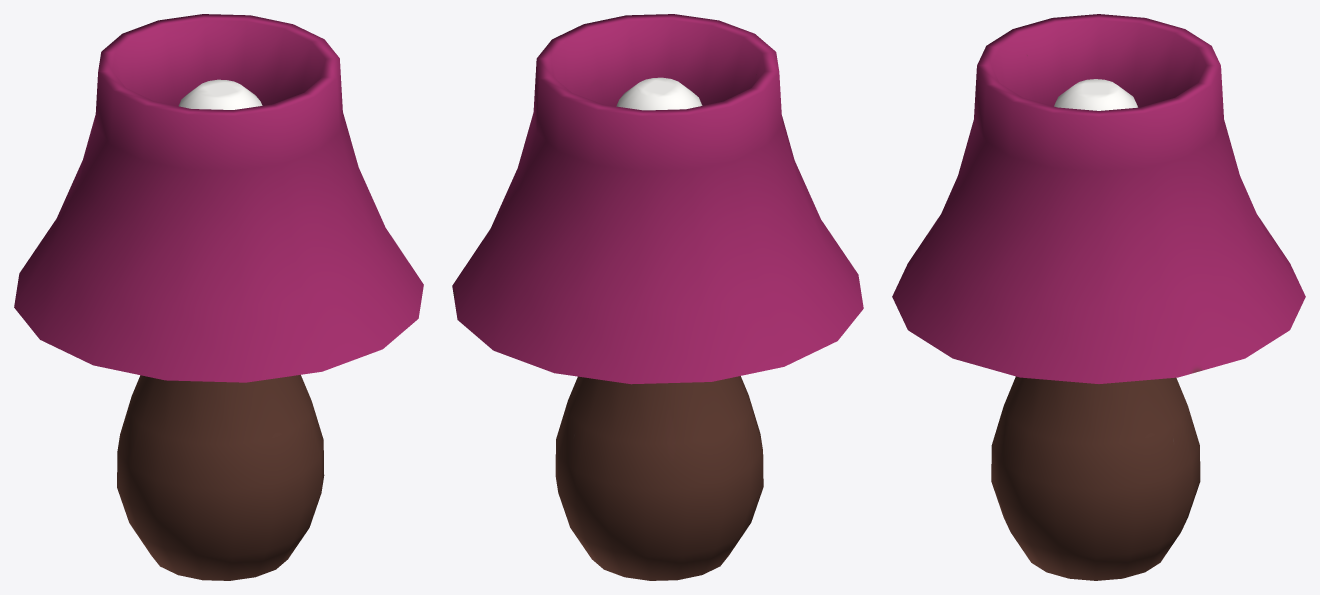
The model's file is lamp.fbx.
3 views of the same model, side by side, from view 1: azimuth 30°, elevation 25°; view 2: azimuth 150°, elevation 25°; view 3: azimuth 270°, elevation 25° (orthographic).
Visible parts, largest first — view 1: Cylinder.002; view 2: Cylinder.002; view 3: Cylinder.002.
Boxes of the visible parts, x1,y1,x2,y2 form: Cylinder.002: (14,14,423,580); Cylinder.002: (452,14,863,580); Cylinder.002: (892,14,1305,580).
Size of the model in its own units: 342 by 443 by 342.
1 material, 1 textured.
